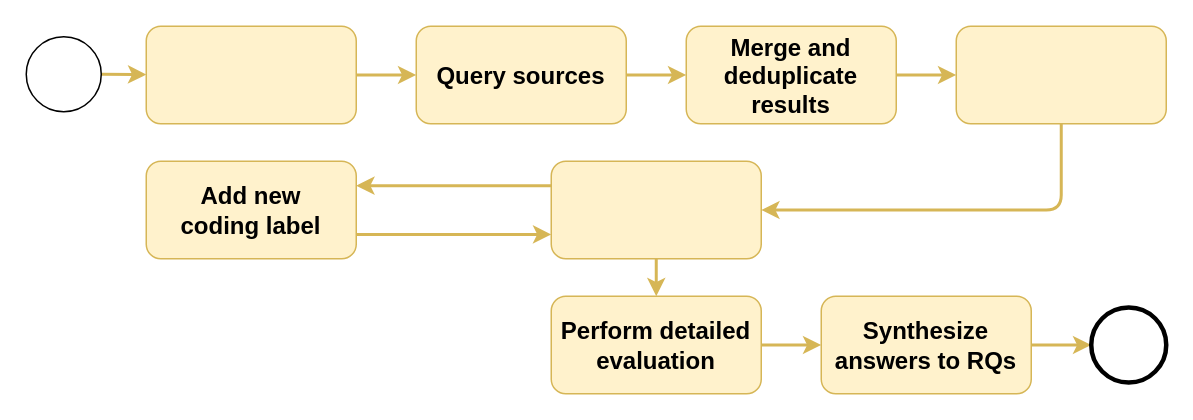
This 1193x420 diagram has some shape labels left out. Each missing label, with the centre of its shape:
"Apply filter criteria" goes at [1060,74].
"Code selected documents" goes at [655,209].
"Define GLR protocol" goes at [250,74].
